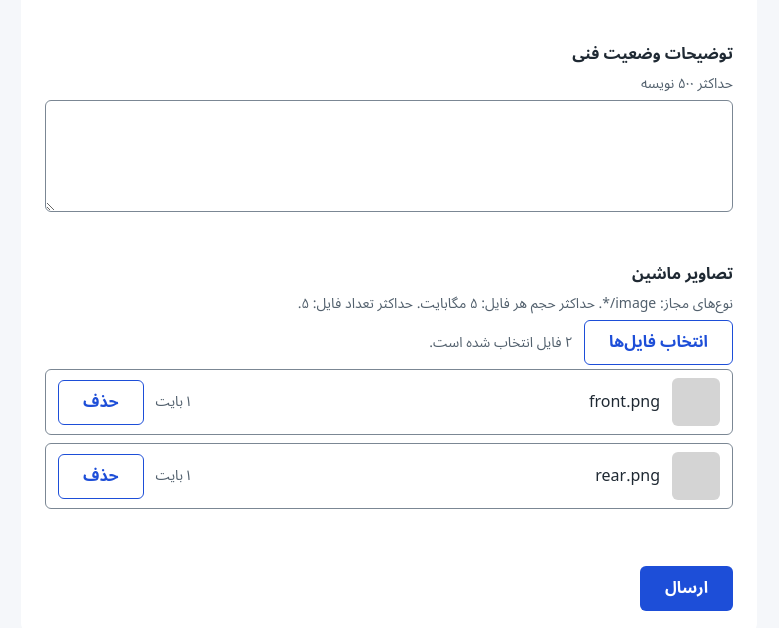
Scenario: submitting (TC-E09, TC-E12 to TC-E15) › sends one multipart request with every field and both files, then shows the success panel
Earlier steps of the test are not shown.
(page scrolled)
Click the button "ارسال" at (686,589), box [640, 566, 733, 611]
(page scrolled)
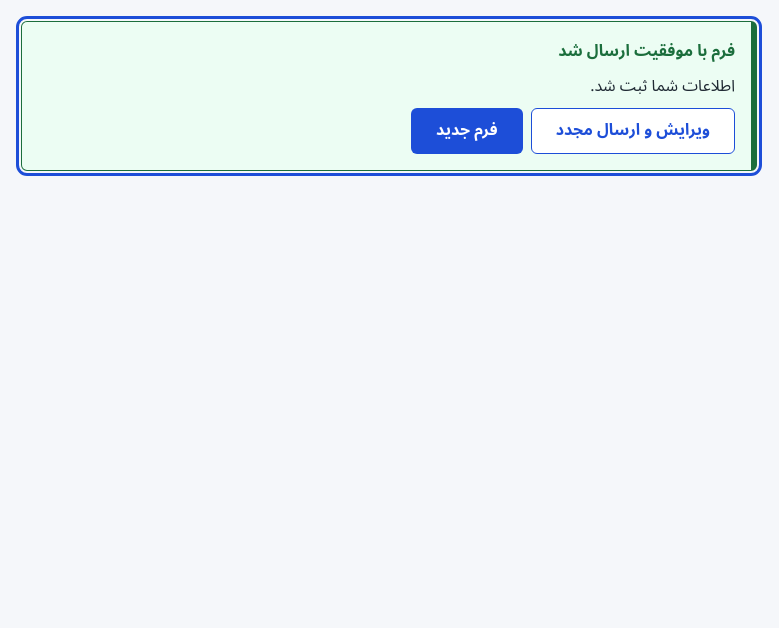
Expected: the text "فرم با موفقیت ارسال شد" is shown, [558, 34, 735, 68]
